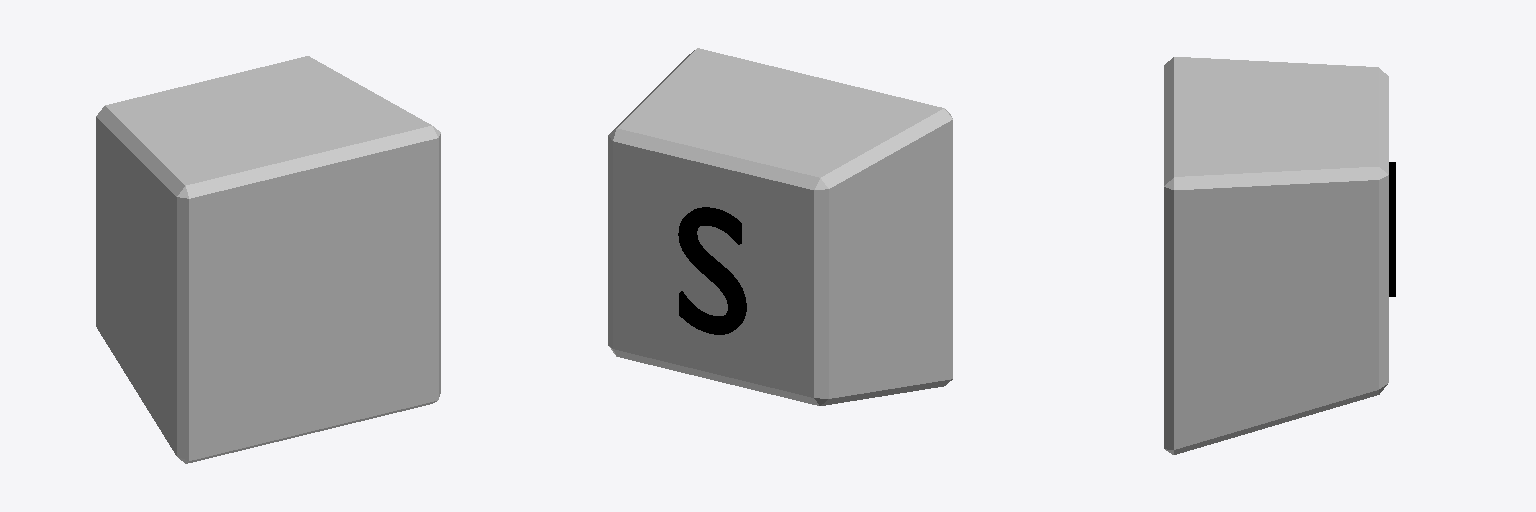
The model's file is S_key.obj.
3 views of the same model, side by side, from view 1: azimuth 30°, elevation 25°; view 2: azimuth 150°, elevation 25°; view 3: azimuth 270°, elevation 25° (orthographic).
Parts seen in each view (by area): view 1: Cube.002; view 2: Cube.002, Text.002; view 3: Cube.002, Text.002.
Boxes of the visible parts, box(x1,y1,x2,y2) form: Cube.002: box(96, 56, 440, 463); Cube.002: box(608, 48, 952, 405); Text.002: box(678, 207, 746, 334); Cube.002: box(1164, 57, 1388, 454); Text.002: box(1389, 162, 1395, 296).
Bounding box in the file's own units: 0.9074 × 0.9126 × 0.6894.